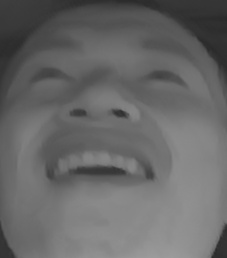eye: (135, 61, 193, 94), (25, 60, 76, 87)
mouth: (37, 131, 163, 197)
